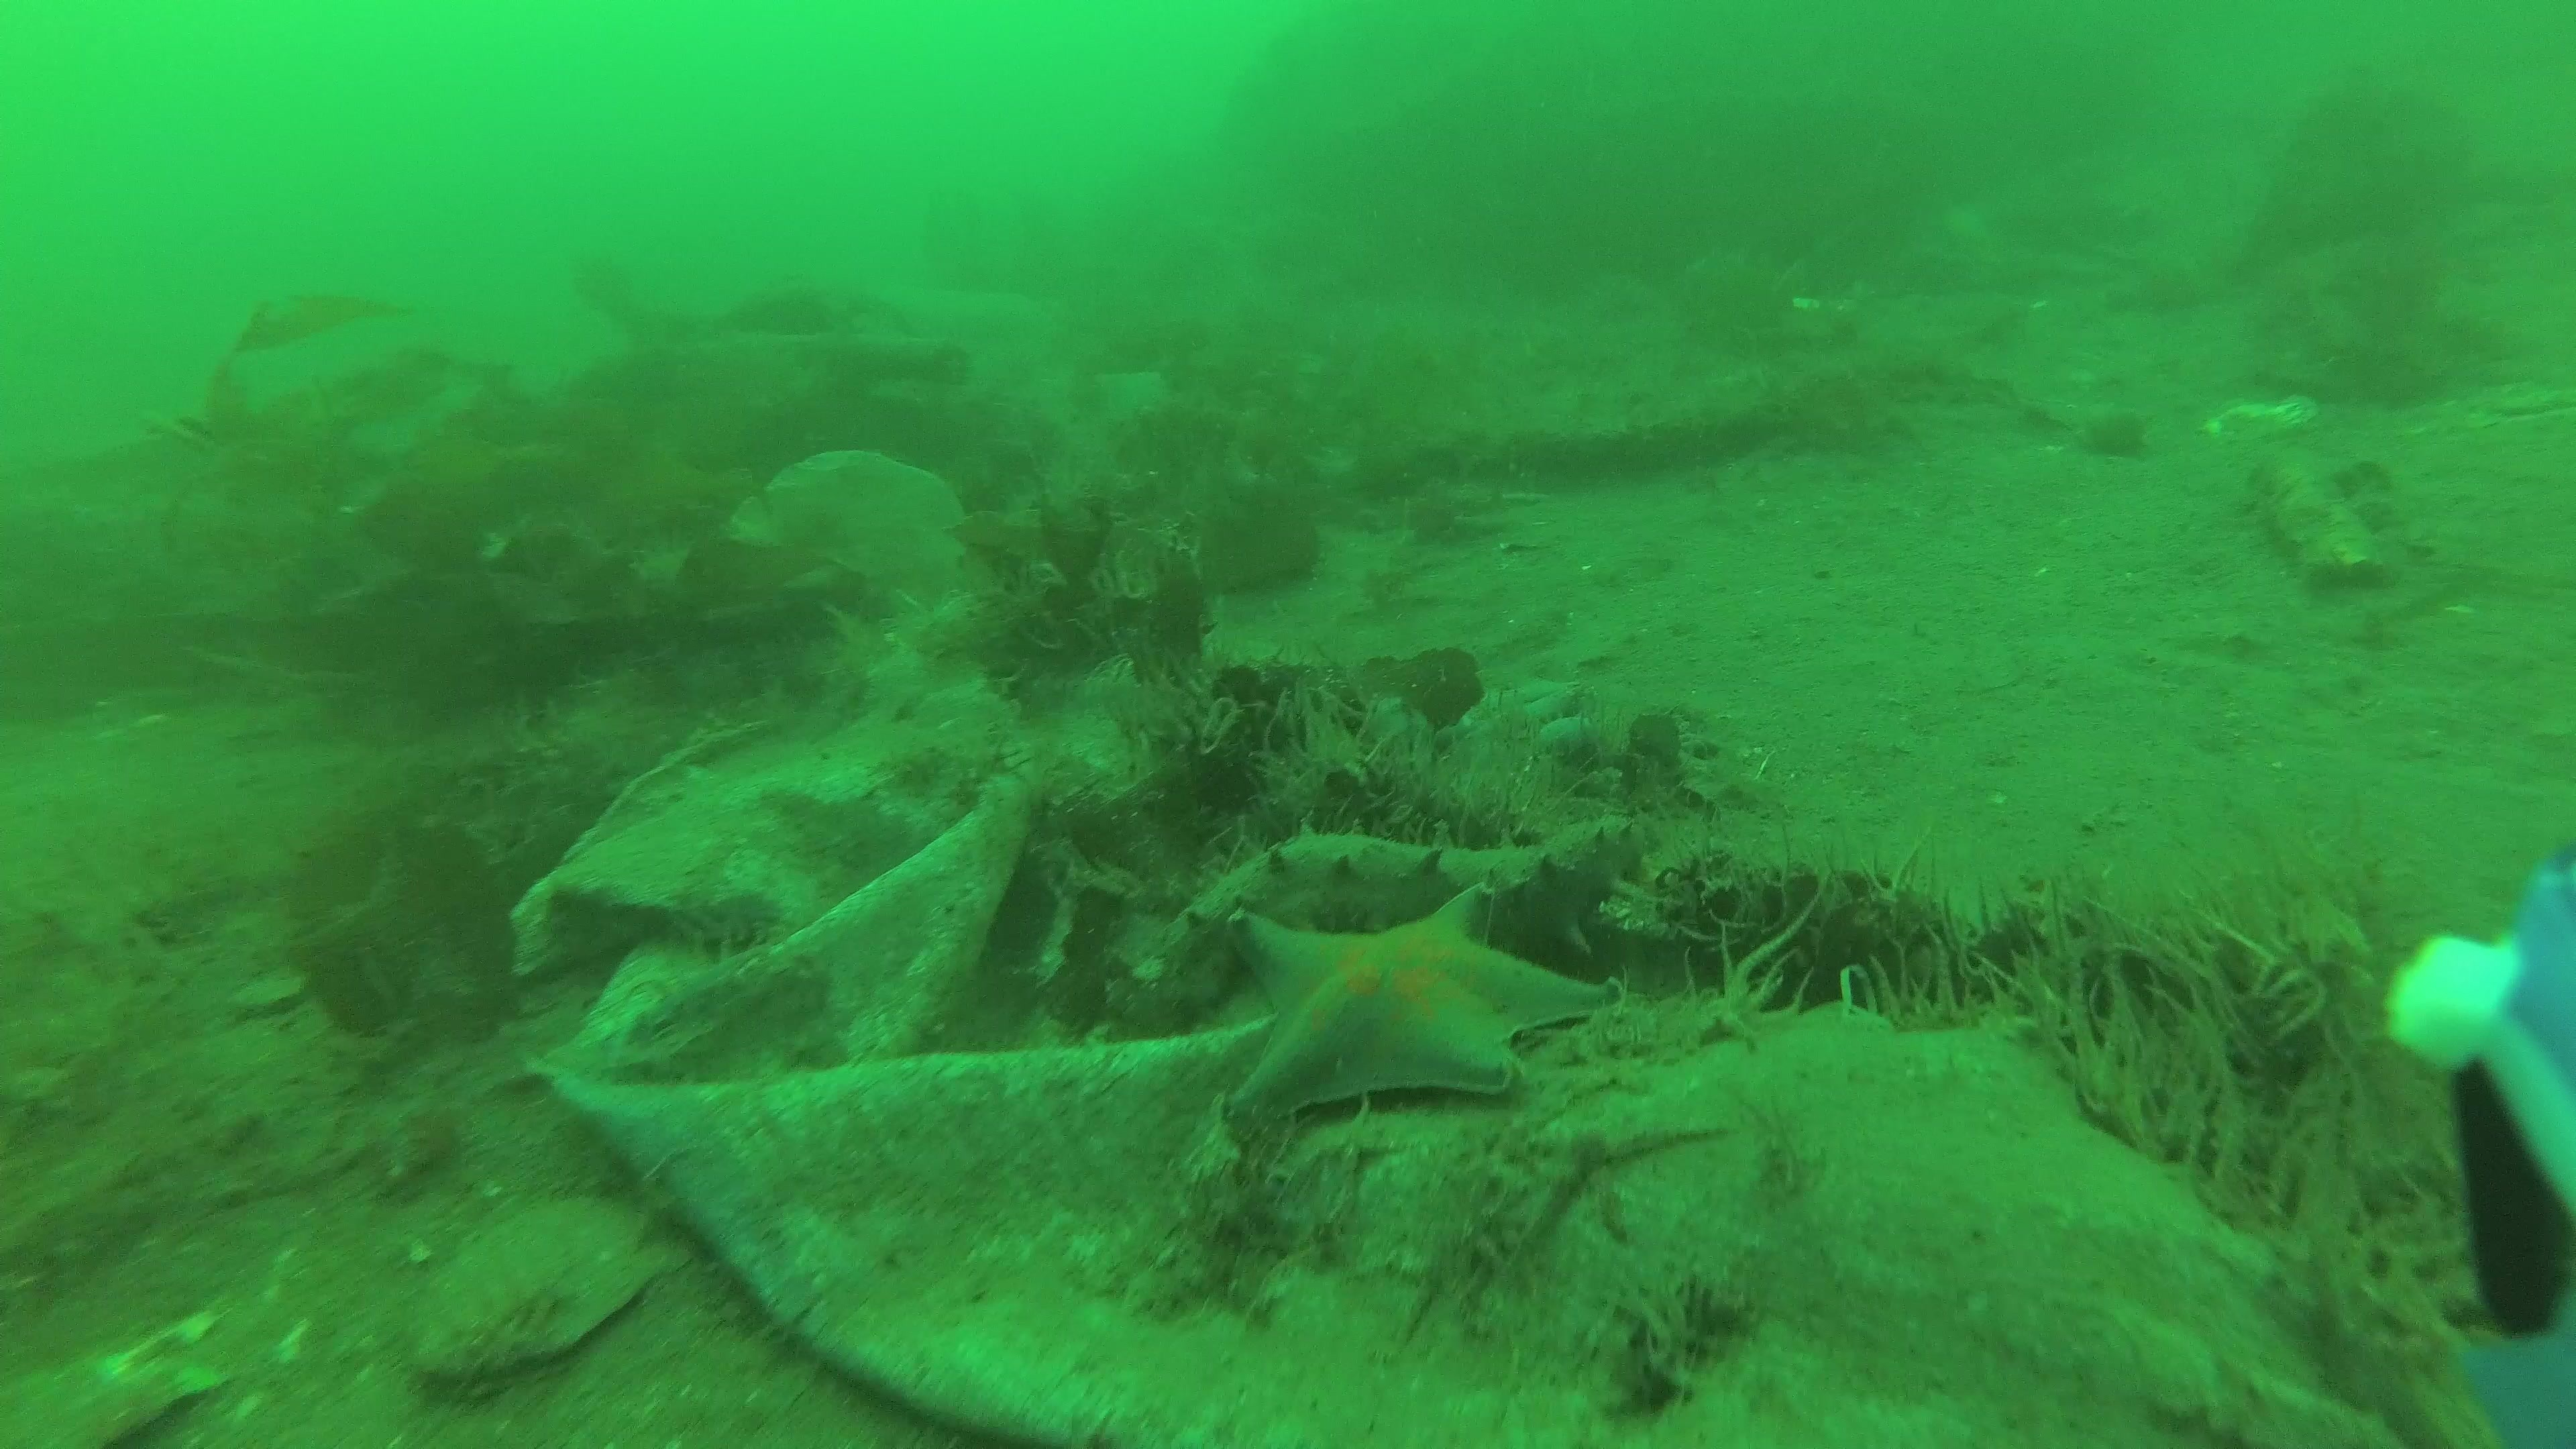holothurian: (1132, 814, 1660, 1033)
scallop: (423, 1192, 655, 1385)
starfish: (1228, 883, 1606, 1129)
